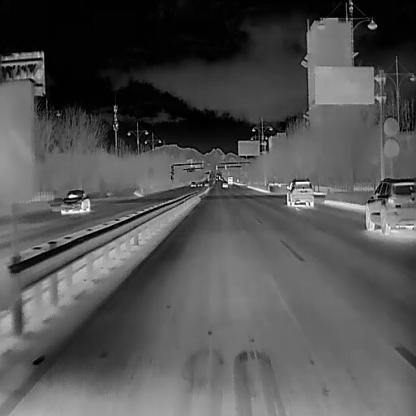bus: (226, 174, 233, 184)
car: (364, 174, 415, 236), (285, 176, 313, 209), (60, 187, 90, 214), (189, 181, 196, 187), (221, 181, 227, 187), (196, 180, 202, 186), (203, 180, 208, 187)
